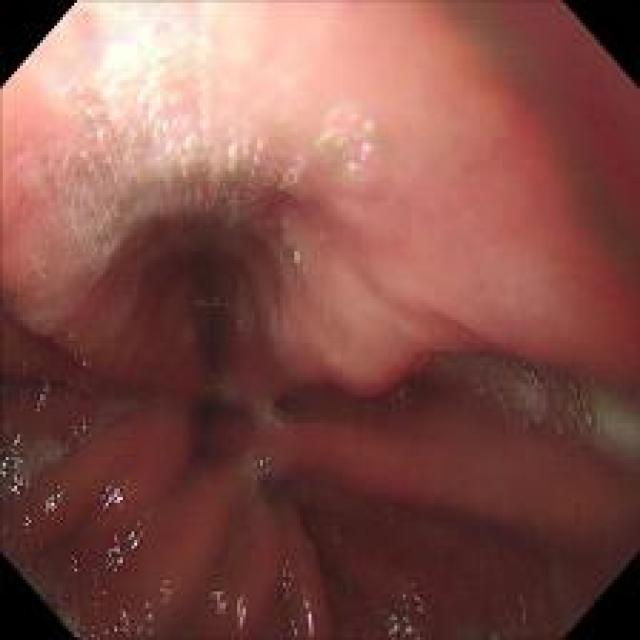bubbles: (40, 132, 310, 265), (429, 342, 636, 469), (311, 94, 382, 175), (55, 79, 112, 136), (29, 264, 58, 291), (395, 384, 420, 412)
color misalignment: (445, 8, 585, 192), (61, 138, 301, 199), (65, 518, 154, 605), (88, 576, 184, 634), (526, 370, 595, 438), (578, 199, 635, 281), (275, 552, 321, 634), (378, 568, 429, 638), (0, 420, 36, 500), (206, 578, 250, 628), (65, 622, 164, 638), (18, 552, 58, 590), (92, 472, 126, 510), (490, 386, 525, 419), (26, 371, 54, 411), (38, 481, 69, 516), (251, 448, 276, 489), (61, 411, 95, 441), (14, 508, 41, 538), (268, 401, 294, 428), (509, 589, 530, 622), (455, 574, 469, 600)
saturation: (49, 0, 261, 56)
specularity: (81, 38, 230, 119)
